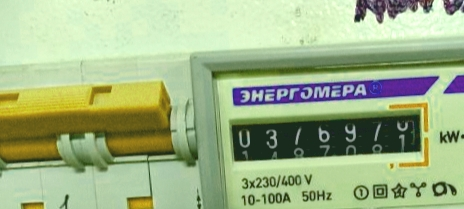0: (236, 124, 251, 147)
1: (394, 131, 408, 151)
3: (263, 125, 279, 148)
6: (314, 118, 331, 142)
7: (288, 121, 304, 145), (369, 117, 384, 141)
9: (341, 118, 357, 142)
screen: (219, 95, 434, 182)
